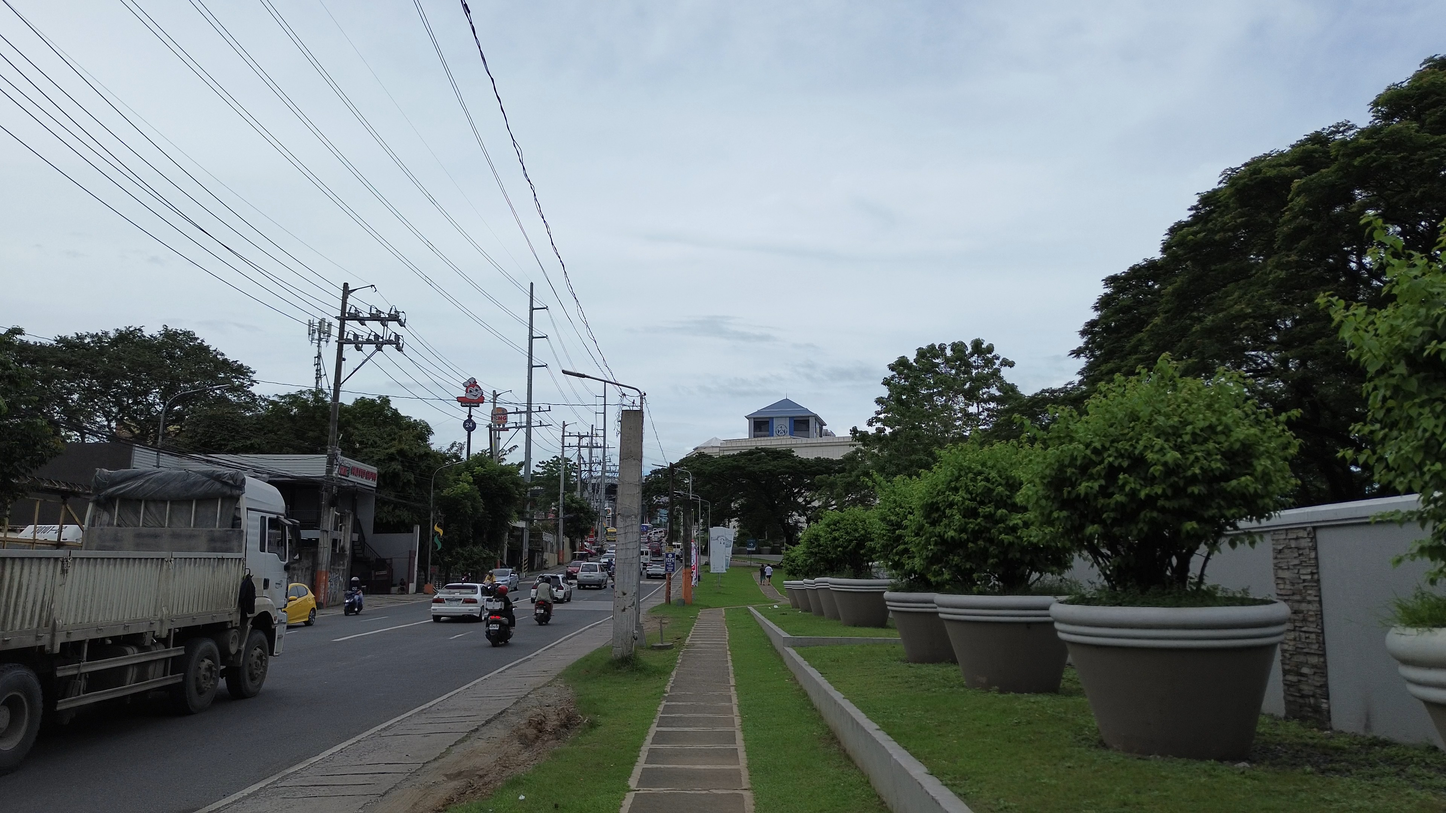car: (285, 583, 316, 625), (538, 574, 573, 603), (491, 568, 519, 591), (646, 560, 666, 579), (564, 560, 582, 581)
motorcycle: (344, 588, 363, 615), (534, 600, 552, 625)
truck: (0, 469, 296, 773)
vehicle: (430, 583, 486, 621), (483, 598, 512, 646), (576, 562, 608, 589), (344, 586, 363, 615), (564, 560, 582, 581)
